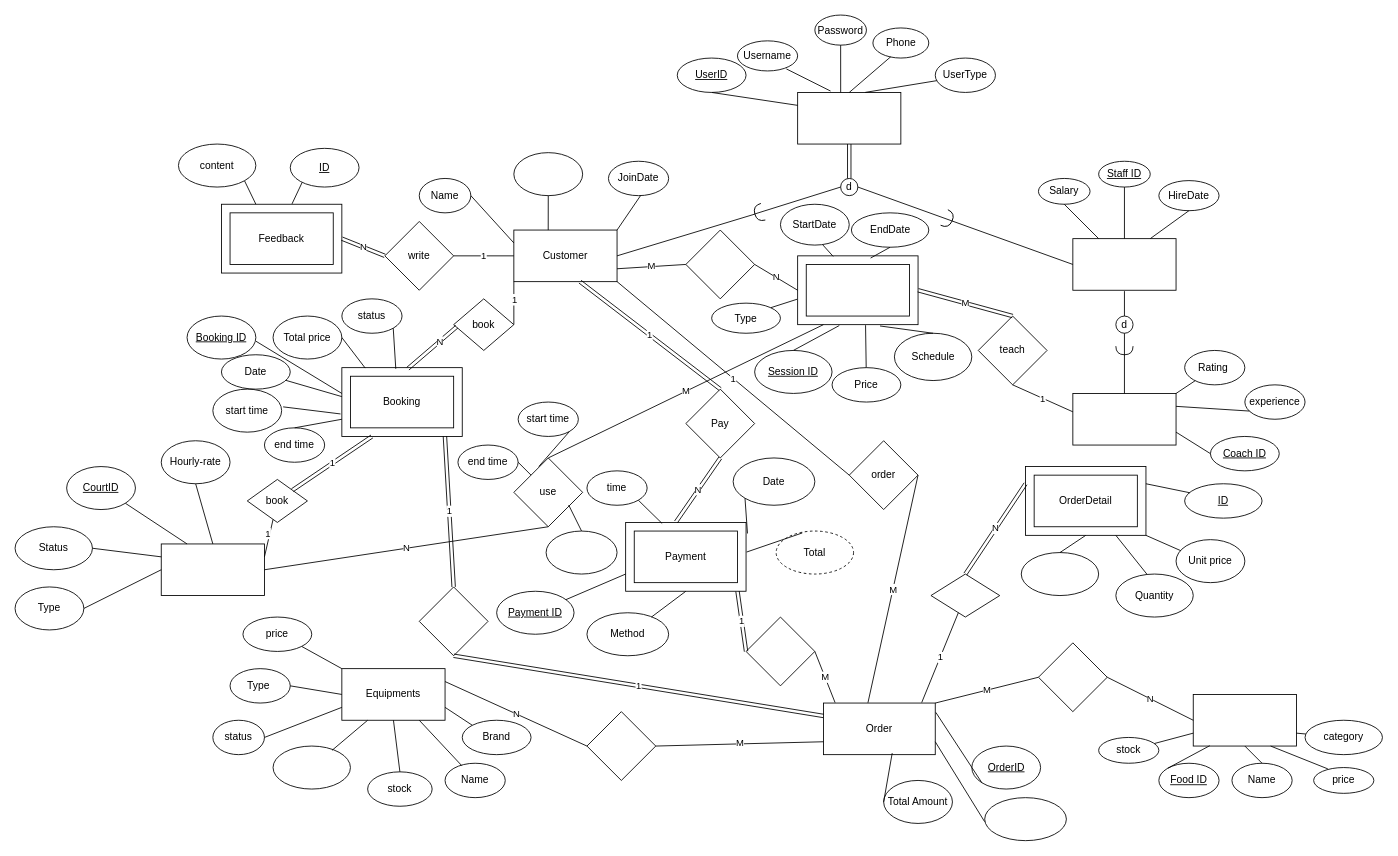
The diagram is 1398 pixels wide and 856 high, and some of its shapes have lost their labels. The centre of each missing label's shape, as x and y in pixels:
"Cafeteria-Food" goes at (1244,720).
"Coach" goes at (1124,419).
"Court" goes at (212,569).
"court bill" goes at (453,621).
"CustomerID" goes at (548,174).
"day use" goes at (581,552).
"details" goes at (965,595).
"enrol" goes at (720,264).
"Equip-ID" goes at (311,767).
"ItemType" goes at (1059,574).
"order bill" goes at (780,651).
"Order Date" goes at (1025,819).
"order-food" goes at (1072,677).
"rent" goes at (621,745).
"Staff" goes at (1124,264).
"Training sessions" goes at (857,290).
"User" goes at (849,118).
